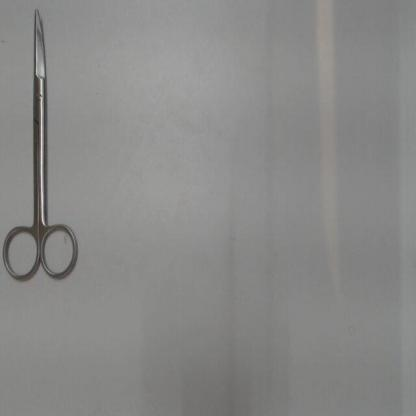Curved Mayo Scissors: (1, 4, 84, 288)
